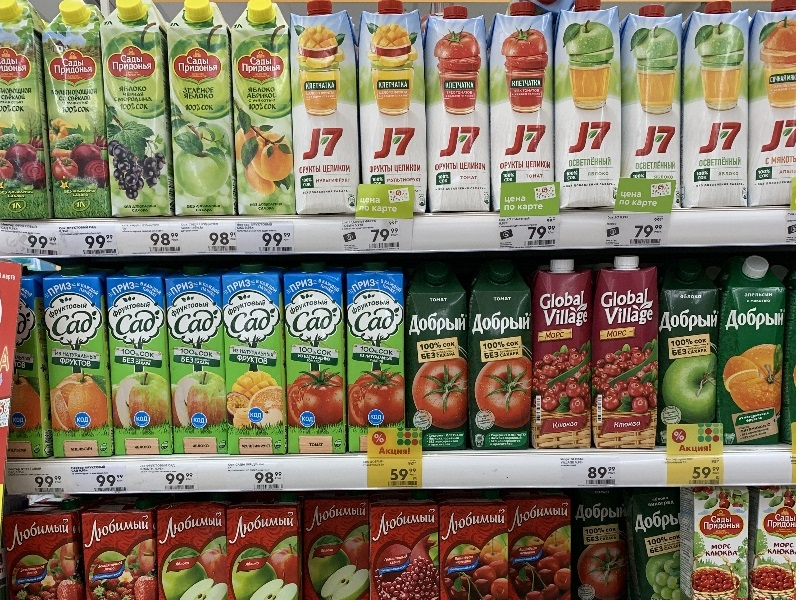juice: (91, 1, 180, 226), (277, 1, 367, 223), (36, 1, 115, 226), (222, 1, 302, 221), (420, 1, 498, 218), (164, 1, 240, 223), (356, 1, 431, 224), (489, 1, 563, 222), (712, 251, 790, 459), (39, 265, 121, 461), (678, 1, 752, 218), (555, 1, 627, 218), (617, 2, 688, 219), (101, 268, 180, 462), (592, 249, 664, 460), (219, 261, 294, 463), (341, 261, 414, 463), (165, 267, 239, 463), (469, 259, 543, 455), (283, 263, 356, 459), (404, 259, 475, 458), (530, 256, 600, 456), (1, 1, 58, 226)
